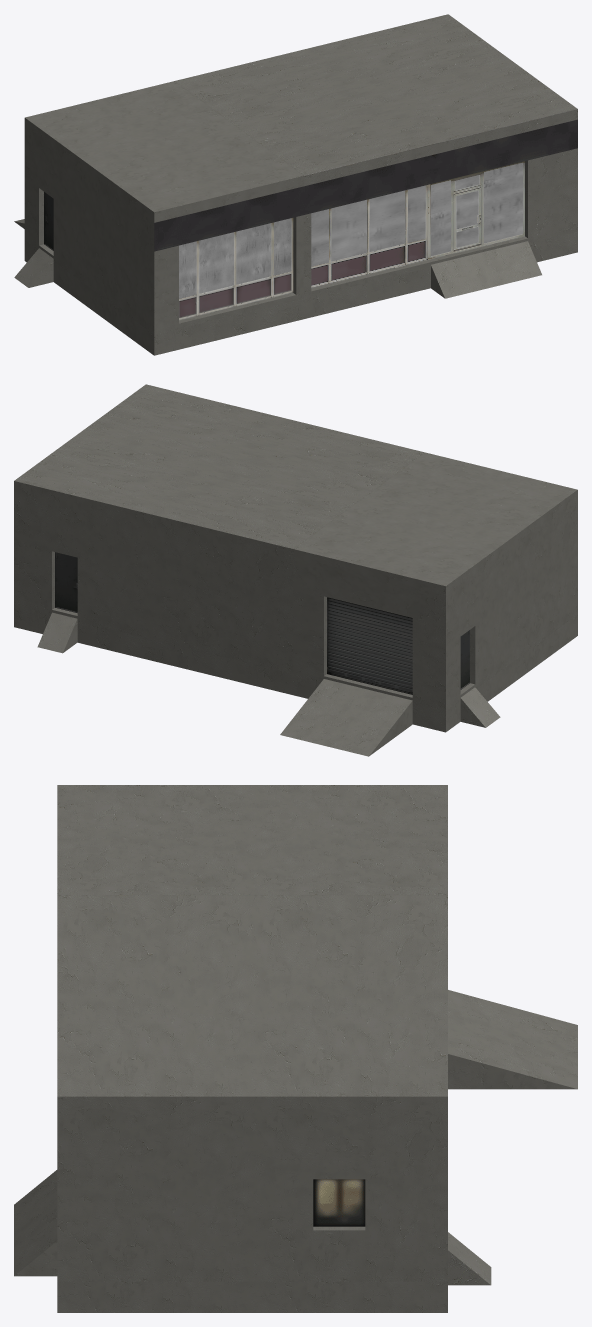
File: mid_house_3.fbx
3 views of the same model, one above another, from view 1: azimuth 30°, elevation 25°; view 2: azimuth 150°, elevation 25°; view 3: azimuth 270°, elevation 25° (orthographic). The views are drawn at different scales.
Visible parts, largest first — view 1: mid_house_3; view 2: mid_house_3; view 3: mid_house_3.
Boxes of the visible parts, box(x1,y1,x2,y2) form: mid_house_3: box(14, 14, 577, 355); mid_house_3: box(14, 384, 577, 756); mid_house_3: box(14, 785, 577, 1312).
Size of the model in its own units: 1800 by 550 by 1300.
